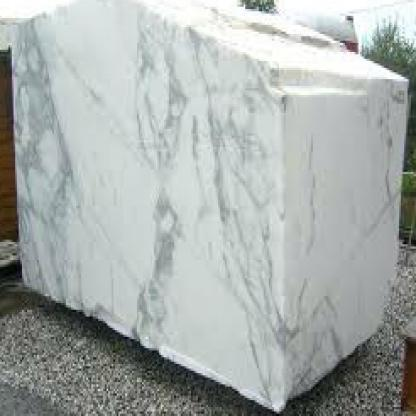Metamorphic_Marble: (15, 6, 415, 405)
